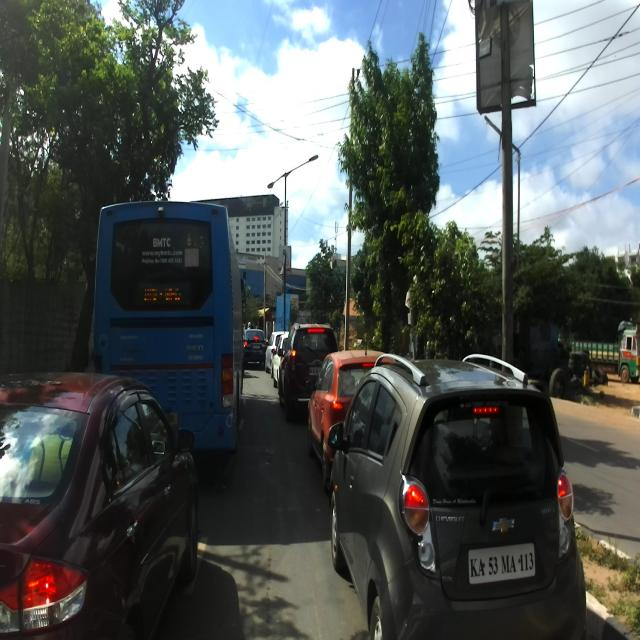bus: (90, 201, 246, 469)
car: (326, 354, 586, 639), (0, 368, 197, 638), (306, 338, 387, 489), (277, 322, 338, 421)
